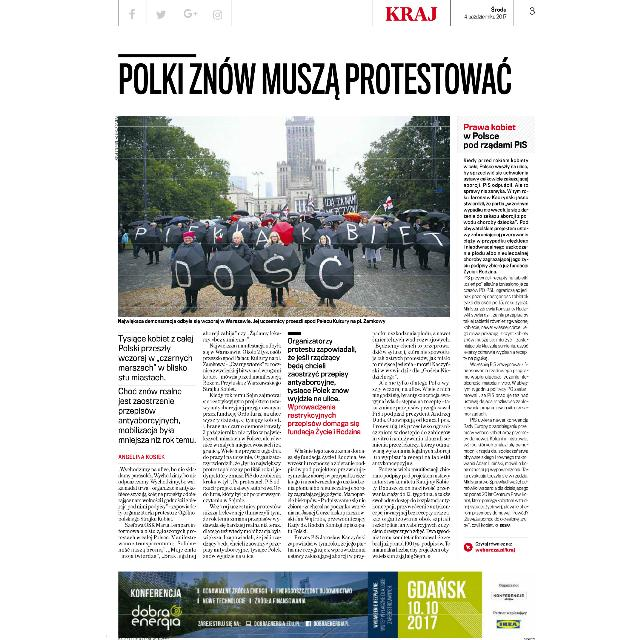article: (116, 52, 532, 564)
